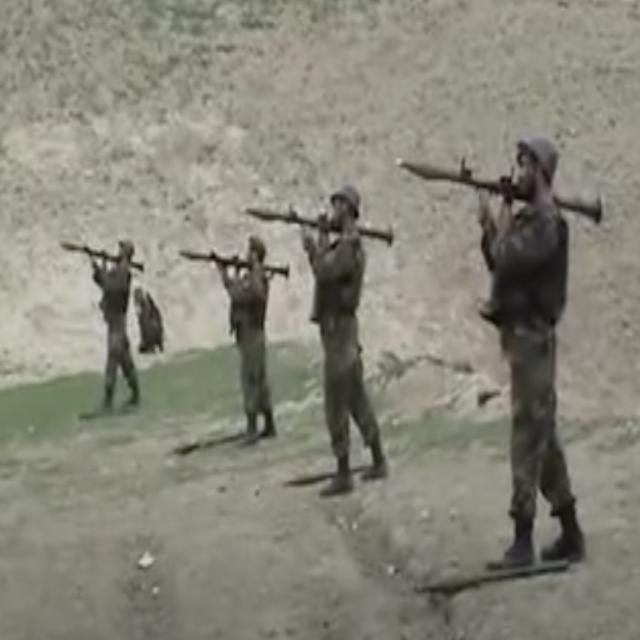bazooka: (388, 158, 612, 214), (247, 203, 397, 245), (57, 232, 154, 276), (173, 252, 294, 276)
